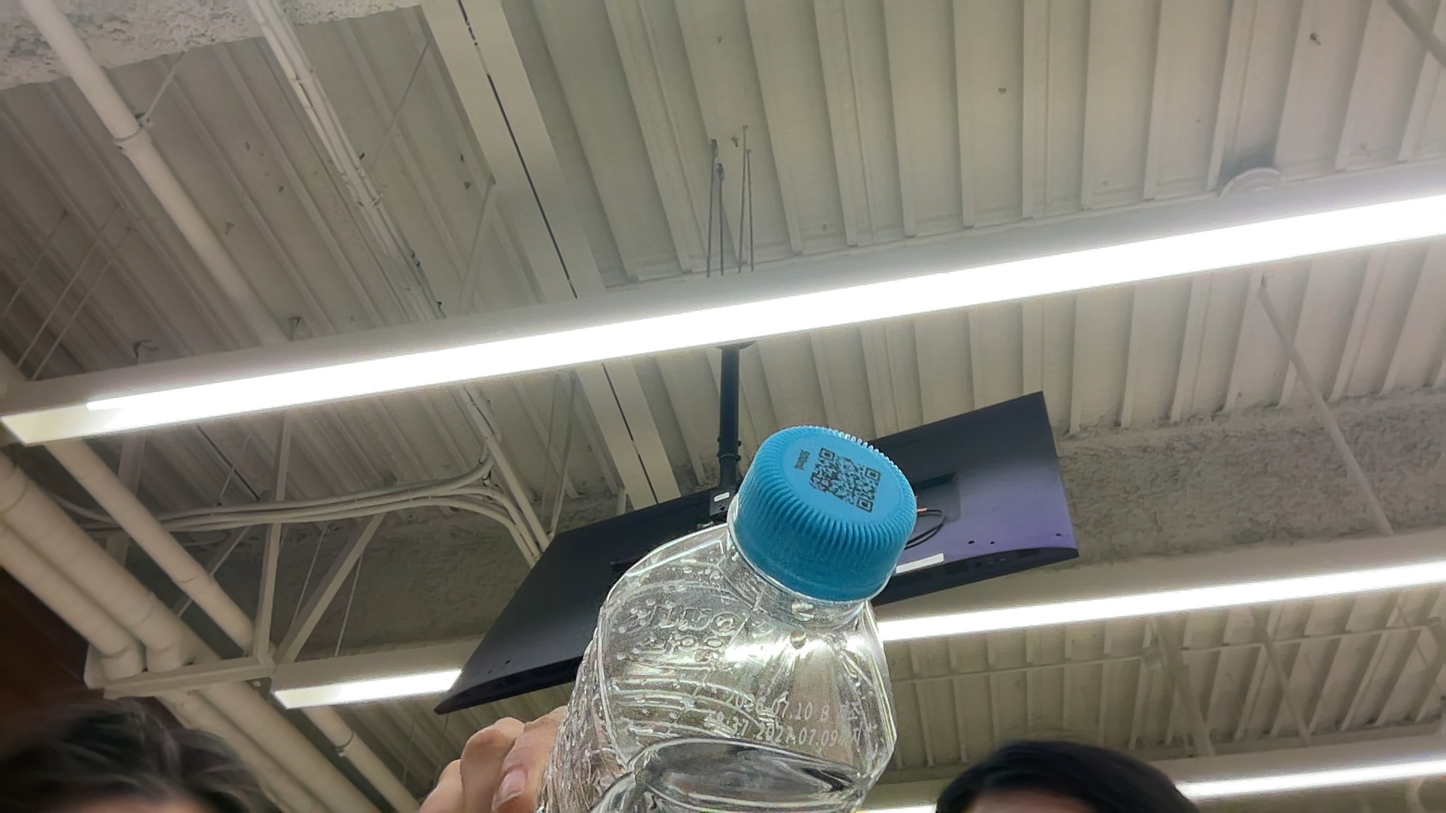Plastic: (734, 427, 917, 603)
